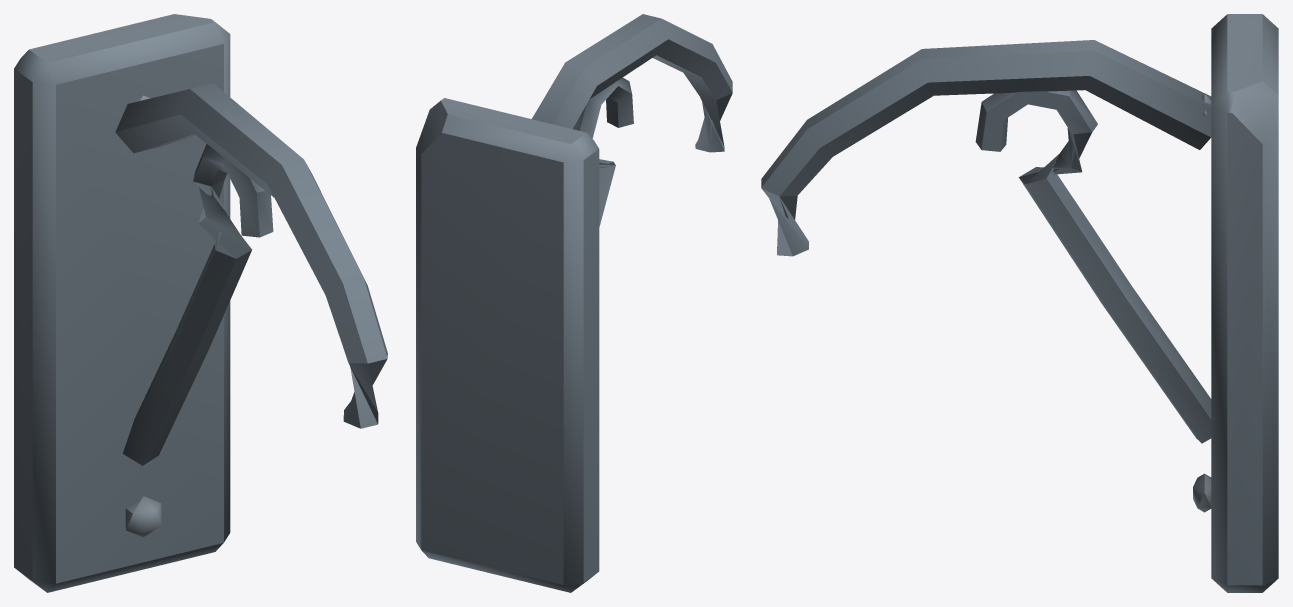
The model's file is ruins-bracket-v1.glb.
The picture shows the model from 3 angles, left to right: view 1: azimuth 30°, elevation 25°; view 2: azimuth 150°, elevation 25°; view 3: azimuth 270°, elevation 25°; orthographic projection. The views are drawn at different scales.
Parts seen in each view (by area): view 1: 0_ruins_bracket; view 2: 0_ruins_bracket; view 3: 0_ruins_bracket.
Boxes of the visible parts, x1,y1,x2,y2 form: 0_ruins_bracket: [14, 14, 387, 592]; 0_ruins_bracket: [416, 14, 732, 592]; 0_ruins_bracket: [761, 14, 1278, 592].
Size of the model in its own units: 0.16 by 0.4161 by 0.3835.
